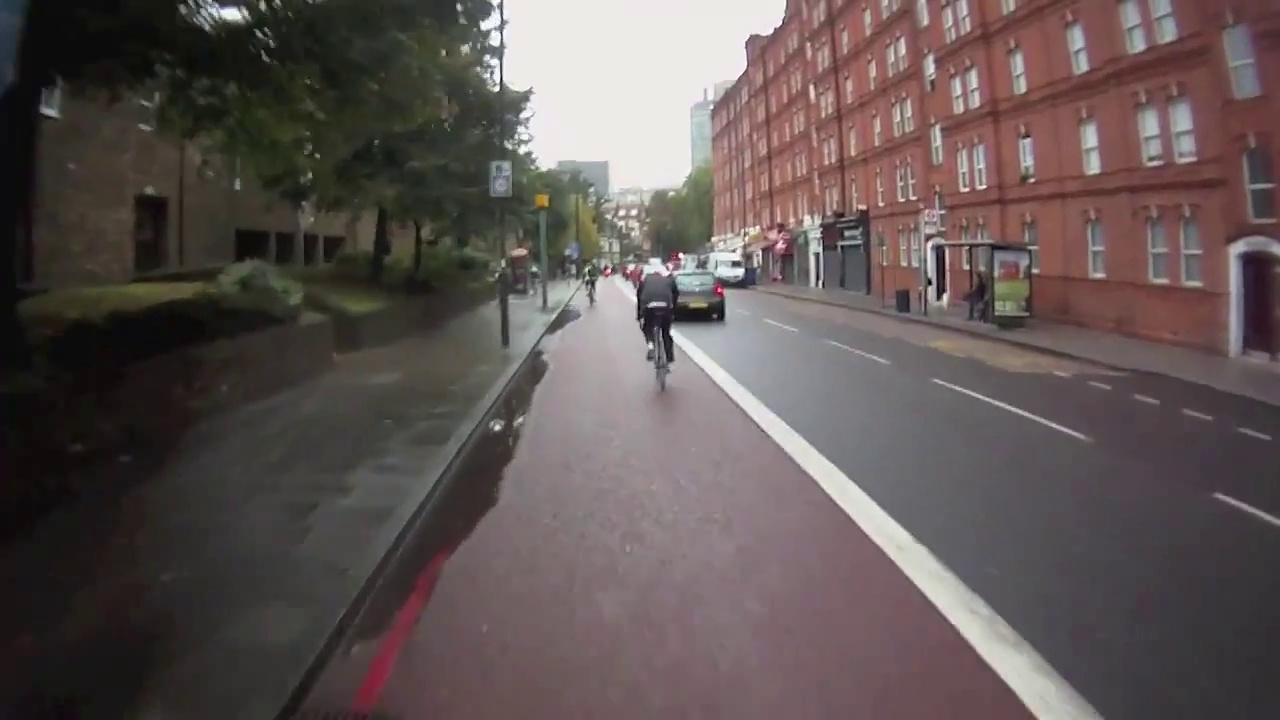cyclist_back: (632, 259, 682, 396), (583, 260, 598, 308)
